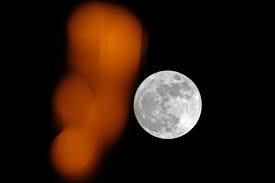moon: (133, 70, 202, 141)
